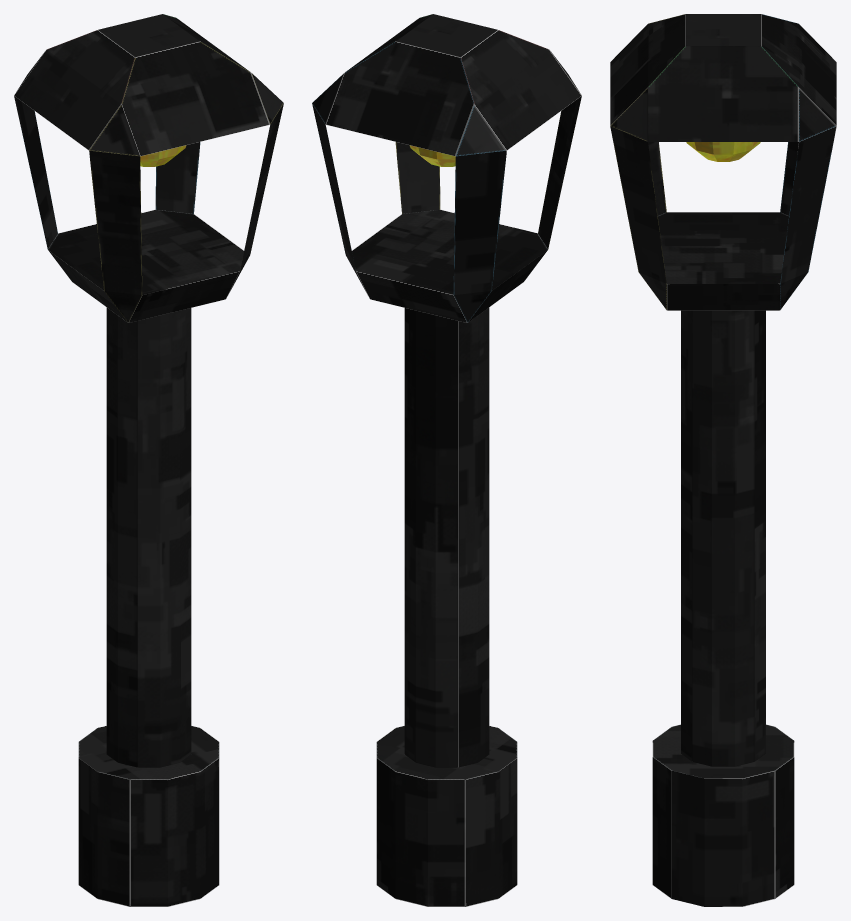
File: lampadaire.fbx
The picture shows the model from 3 angles, left to right: view 1: azimuth 30°, elevation 25°; view 2: azimuth 150°, elevation 25°; view 3: azimuth 270°, elevation 25°; orthographic projection.
Parts seen in each view (by area): view 1: beveled_cuboid, cylinder_1, cylinder; view 2: beveled_cuboid, cylinder_1, cylinder; view 3: beveled_cuboid, cylinder_1, cylinder, sphere.
Boxes of the visible parts, bbox=[...] form: beveled_cuboid: bbox=[14, 14, 283, 322]; cylinder_1: bbox=[106, 307, 191, 767]; cylinder: bbox=[78, 726, 219, 906]; beveled_cuboid: bbox=[312, 14, 581, 322]; cylinder_1: bbox=[404, 307, 489, 767]; cylinder: bbox=[376, 726, 517, 906]; beveled_cuboid: bbox=[610, 14, 836, 310]; cylinder_1: bbox=[681, 310, 765, 766]; cylinder: bbox=[652, 724, 794, 906]; sphere: bbox=[686, 142, 760, 161].
Bounding box in the file's own units: 100 × 412 × 100.
Materials: 1 (1 with a texture image).
